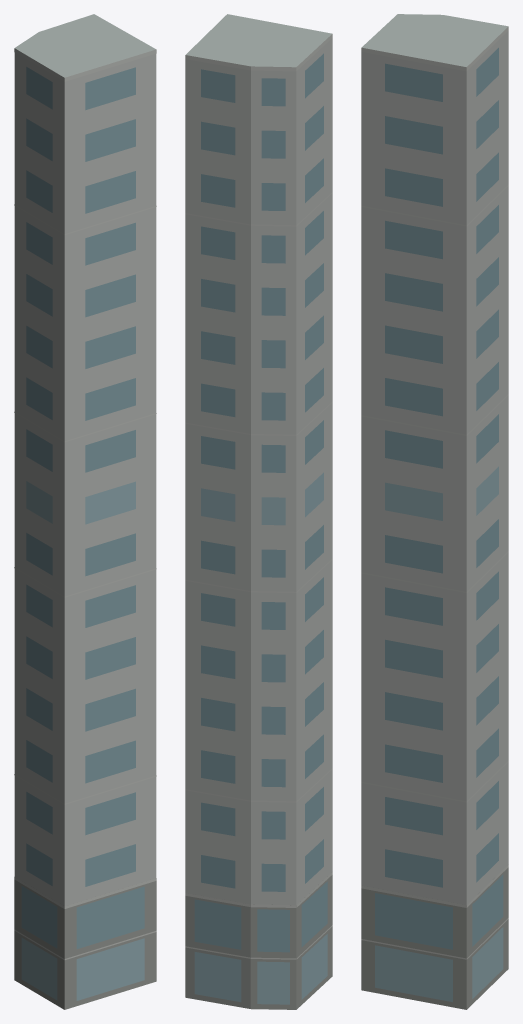
Rendered from survey-upis-32579062.glb.
The picture shows the model from 3 angles, left to right: view 1: azimuth 30°, elevation 25°; view 2: azimuth 150°, elevation 25°; view 3: azimuth 330°, elevation 25°; orthographic projection.
Visible parts, largest first — view 1: survey-upis-32579062.tmp; view 2: survey-upis-32579062.tmp; view 3: survey-upis-32579062.tmp.
Boxes of the visible parts, x1,y1,x2,y2 form: survey-upis-32579062.tmp: (14,14,156,1009); survey-upis-32579062.tmp: (185,14,332,1009); survey-upis-32579062.tmp: (361,14,508,1009).
Size of the model in its own units: 6.51 by 54.9 by 6.22.
